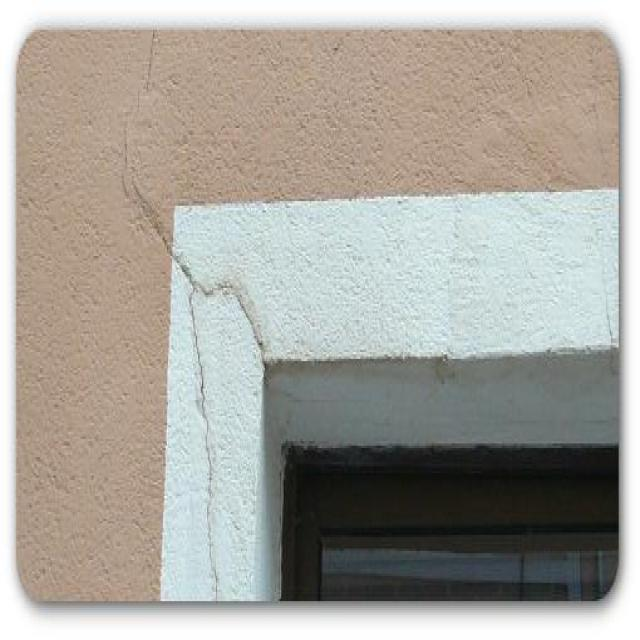crack: (134, 180, 266, 600), (118, 85, 141, 198), (601, 268, 618, 377)
